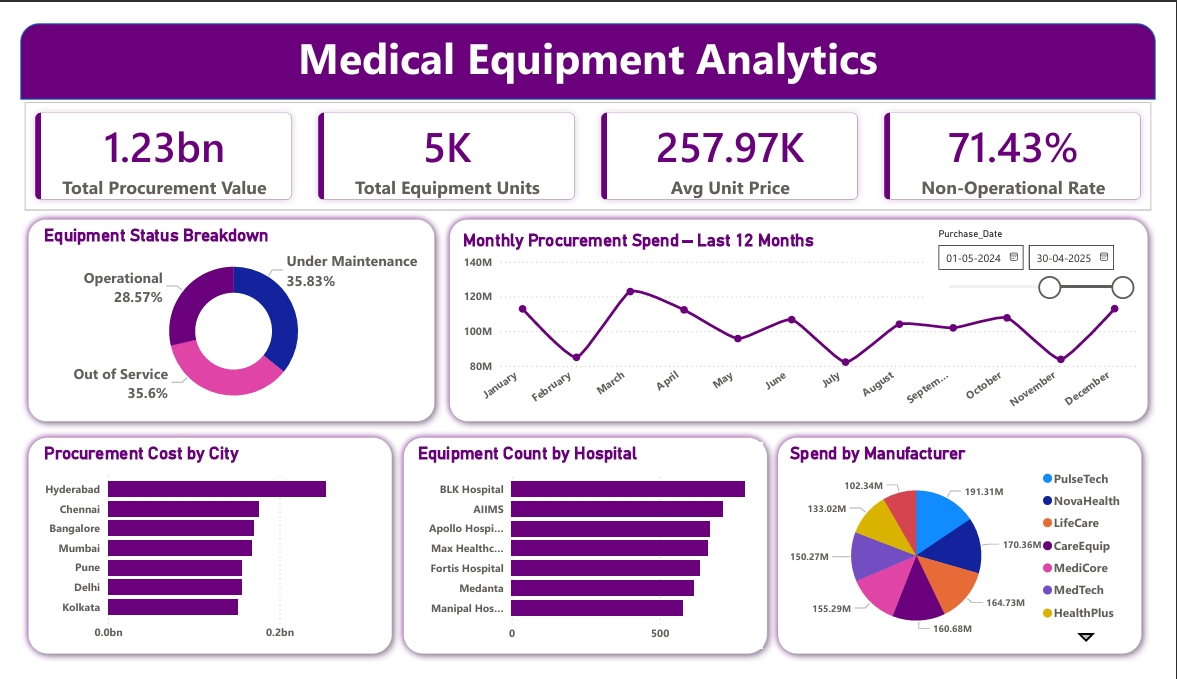

The page's visual inventory and layout, read from the dashboard file:
{"tool":"powerbi","page":{"name":"Page 1","canvas":[1280,720],"ordinal":0},"visuals":[{"type":"cardVisual","fields":{"Data":["Medical_Equipment_Data.Total Procurement Value","Medical_Equipment_Data.Total Equipment Units","Medical_Equipment_Data.Avg Unit Price","Medical_Equipment_Data.Non-Operational Rate"]},"box":[0,84.3,1280,132.9],"z":0},{"type":"shape","box":[0,0,1280,85.7],"z":1000},{"type":"textbox","box":[0,0,1280.3,85.1],"z":2000},{"type":"shape","box":[0,212.3,476.2,246.2],"z":3000},{"type":"donutChart","title":" Equipment Status Breakdown","fields":{"Category":["Medical_Equipment_Data.Status"],"Y":["CountNonNull(Medical_Equipment_Data.Status)"]},"box":[21.5,226.9,437.7,217.7],"z":4000},{"type":"shape","box":[475,212,805,246],"z":5000},{"type":"shape","box":[0,458.5,428.5,261.5],"z":6000},{"type":"clusteredBarChart","title":"Procurement Cost by City","fields":{"Category":["Medical_Equipment_Data.City"],"Y":["Medical_Equipment_Data.Total Procurement Value"]},"box":[21.5,473.1,388.5,232.3],"z":7000},{"type":"lineChart","title":"Monthly Procurement Spend – Last 12 Months","fields":{"Category":["Medical_Equipment_Data.Purchase_Date.Variation.Date Hierarchy.Month","Medical_Equipment_Data.Purchase_Date.Variation.Date Hierarchy.Day"],"Y":["Sum(Medical_Equipment_Data.Total_Cost)"]},"box":[494,233,769,212],"z":8000},{"type":"slicer","fields":{"Values":["Medical_Equipment_Data.Purchase_Date"]},"box":[1022,226,242,88],"z":9000},{"type":"shape","box":[423,458,428,262],"z":10000},{"type":"shape","box":[844.5,458.2,428.2,261.8],"z":11000},{"type":"barChart","title":"Equipment Count by Hospital","fields":{"Category":["Medical_Equipment_Data.Hospital_Name"],"Y":["Sum(Medical_Equipment_Data.Quantity)"]},"box":[442.9,472.9,394.3,232.9],"z":12000},{"type":"pieChart","title":"Spend by Manufacturer","fields":{"Category":["Medical_Equipment_Data.Manufacturer"],"Y":["Sum(Medical_Equipment_Data.Total_Cost)"]},"box":[862.5,472.5,391.2,232.5],"z":13000}]}

Visuals, with their boxes in screenshot pixels (x1, y1, x2, y2), scaled from the page's 1280x720 canvas onto the 1177x679 screenshot:
cardVisual - Medical_Equipment_Data.Total Procurement Value x Medical_Equipment_Data.Total Equipment Units: region(0, 79, 1176, 205)
shape: region(0, 0, 1176, 81)
textbox: region(0, 0, 1176, 80)
shape: region(0, 200, 438, 432)
" Equipment Status Breakdown" donutChart: region(20, 214, 422, 419)
shape: region(437, 200, 1176, 432)
shape: region(0, 432, 394, 678)
"Procurement Cost by City" clusteredBarChart: region(20, 446, 377, 665)
"Monthly Procurement Spend – Last 12 Months" lineChart: region(454, 220, 1161, 420)
slicer - Medical_Equipment_Data.Purchase_Date: region(940, 213, 1162, 296)
shape: region(389, 432, 783, 678)
shape: region(777, 432, 1170, 678)
"Equipment Count by Hospital" barChart: region(407, 446, 770, 666)
"Spend by Manufacturer" pieChart: region(793, 446, 1153, 665)
